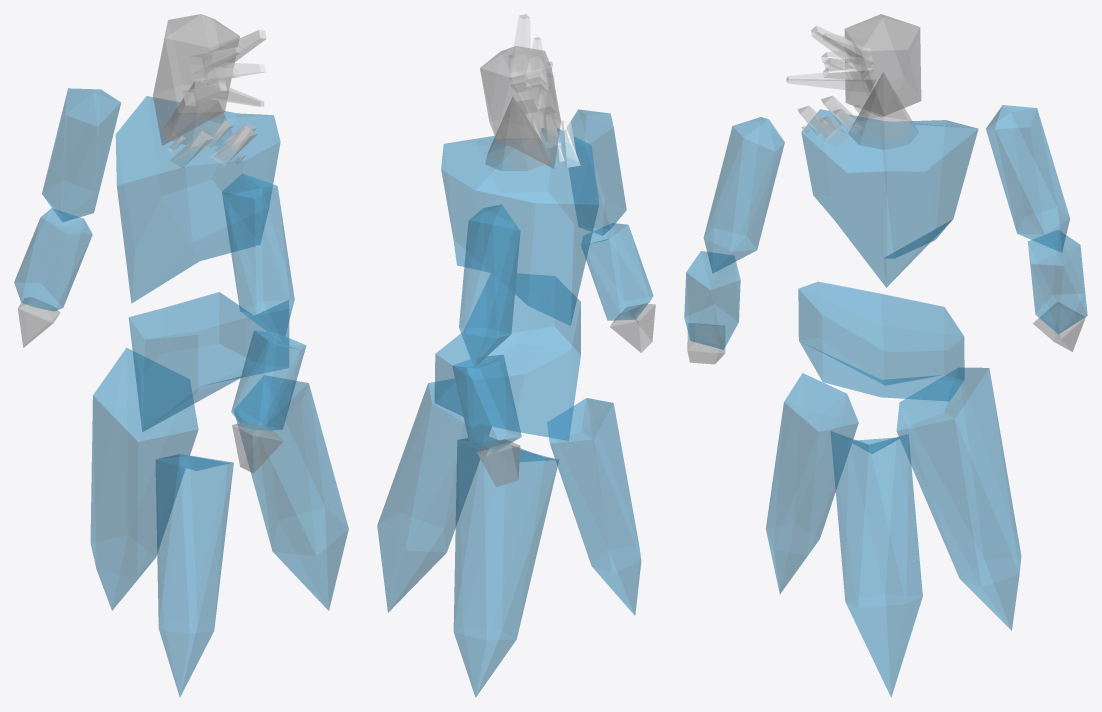
File: ghostDistanceAttack7.obj
3 views of the same model, side by side, from view 1: azimuth 30°, elevation 25°; view 2: azimuth 150°, elevation 25°; view 3: azimuth 270°, elevation 25° (orthographic). The views are drawn at different scales.
Parts seen in each view (by area): view 1: Cube.001_Cube.007, Icosphere.020, Icosphere.019, Cube_Cube.007, Icosphere.018, Icosphere.005_Icosphere.007, Icosphere.003_Icosphere.007, Icosphere.007_Icosphere.006, Icosphere.006_Icosphere.006, Icosphere.008_Icosphere.006, Cone_Cone.007, Cube.002_Cube.007 (+8 smaller); view 2: Cube.001_Cube.007, Cube_Cube.007, Icosphere.020, Icosphere.019, Icosphere.018, Icosphere.007_Icosphere.006, Icosphere.003_Icosphere.007, Icosphere.005_Icosphere.007, Icosphere.008_Icosphere.006, Icosphere.006_Icosphere.006, Cone_Cone.007, Cube.003_Cube.007 (+6 smaller); view 3: Cube.001_Cube.007, Icosphere.020, Icosphere.019, Cube_Cube.007, Icosphere.018, Icosphere.005_Icosphere.007, Icosphere.007_Icosphere.006, Icosphere.003_Icosphere.007, Icosphere.008_Icosphere.006, Icosphere.006_Icosphere.006, Cone_Cone.007, Cube.003_Cube.007 (+4 smaller).
Part boxes in pixels (left/top/right/bottom): Cube.001_Cube.007: left=115, top=96, right=280, bottom=303; Icosphere.020: left=90, top=348, right=198, bottom=610; Icosphere.019: left=234, top=375, right=348, bottom=610; Cube_Cube.007: left=128, top=292, right=289, bottom=431; Icosphere.018: left=155, top=454, right=233, bottom=697; Icosphere.005_Icosphere.007: left=222, top=173, right=294, bottom=343; Icosphere.003_Icosphere.007: left=153, top=14, right=239, bottom=145; Icosphere.007_Icosphere.006: left=42, top=88, right=120, bottom=222; Icosphere.006_Icosphere.006: left=231, top=330, right=305, bottom=431; Icosphere.008_Icosphere.006: left=14, top=208, right=92, bottom=311; Cone_Cone.007: left=164, top=82, right=232, bottom=146; Cube.002_Cube.007: left=232, top=422, right=283, bottom=473; Cube.001_Cube.007: left=441, top=128, right=599, bottom=325; Cube_Cube.007: left=434, top=273, right=580, bottom=440; Icosphere.020: left=453, top=435, right=558, bottom=697; Icosphere.019: left=377, top=379, right=491, bottom=612; Icosphere.018: left=547, top=398, right=641, bottom=615; Icosphere.007_Icosphere.006: left=459, top=204, right=520, bottom=367; Icosphere.003_Icosphere.007: left=480, top=46, right=560, bottom=168; Icosphere.005_Icosphere.007: left=565, top=109, right=626, bottom=235; Icosphere.008_Icosphere.006: left=452, top=354, right=521, bottom=453; Icosphere.006_Icosphere.006: left=581, top=223, right=653, bottom=320; Cone_Cone.007: left=485, top=96, right=548, bottom=170; Cube.003_Cube.007: left=477, top=439, right=520, bottom=486; Cube.001_Cube.007: left=801, top=109, right=978, bottom=287; Icosphere.020: left=896, top=367, right=1021, bottom=630; Icosphere.019: left=830, top=431, right=922, bottom=697; Cube_Cube.007: left=798, top=281, right=964, bottom=401; Icosphere.018: left=766, top=373, right=858, bottom=593; Icosphere.005_Icosphere.007: left=703, top=117, right=784, bottom=273; Icosphere.007_Icosphere.006: left=986, top=105, right=1069, bottom=252; Icosphere.003_Icosphere.007: left=844, top=14, right=921, bottom=116; Icosphere.008_Icosphere.006: left=1028, top=230, right=1087, bottom=334; Icosphere.006_Icosphere.006: left=684, top=251, right=740, bottom=349; Cone_Cone.007: left=848, top=72, right=918, bottom=149; Cube.003_Cube.007: left=1033, top=302, right=1085, bottom=351.
Bounding box in the file's own units: 17.77 × 47.52 × 27.68.
